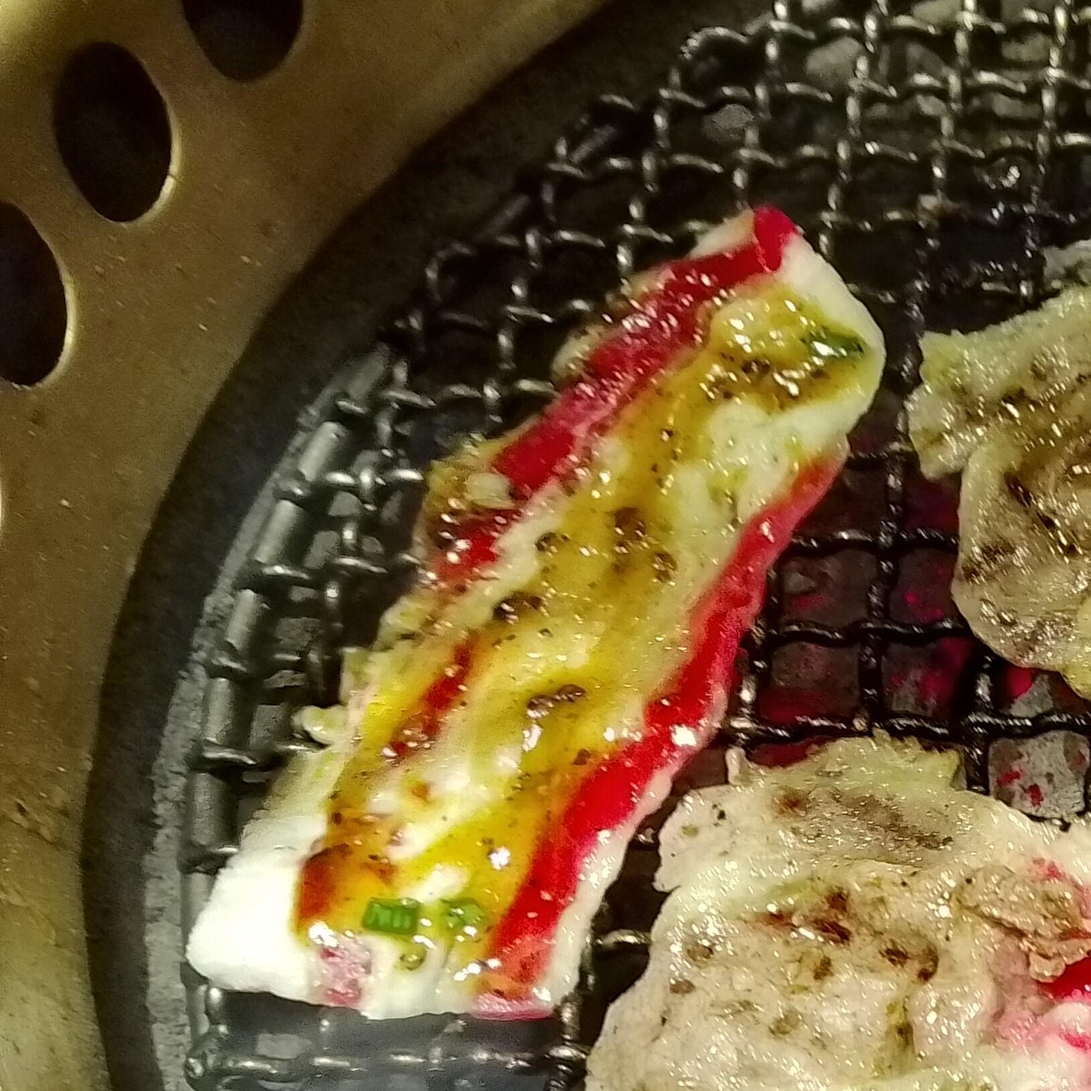Overcooked: (589, 746, 1090, 1090), (912, 245, 1090, 705)
Undercooked: (191, 208, 886, 1024)
